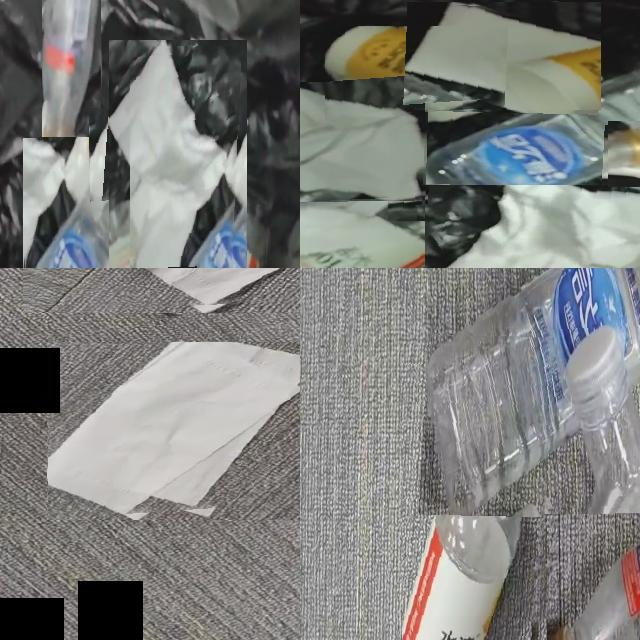bottle: (430, 268, 640, 513), (402, 336, 552, 640), (388, 68, 640, 221), (300, 184, 534, 268), (36, 138, 166, 268), (42, 0, 99, 162), (549, 543, 640, 640), (209, 206, 267, 268)
dixie_cup: (325, 26, 508, 115)
paper: (48, 342, 300, 515), (109, 40, 247, 268), (130, 46, 239, 268), (411, 5, 601, 110), (451, 185, 640, 268), (300, 90, 427, 202), (90, 109, 121, 202)
